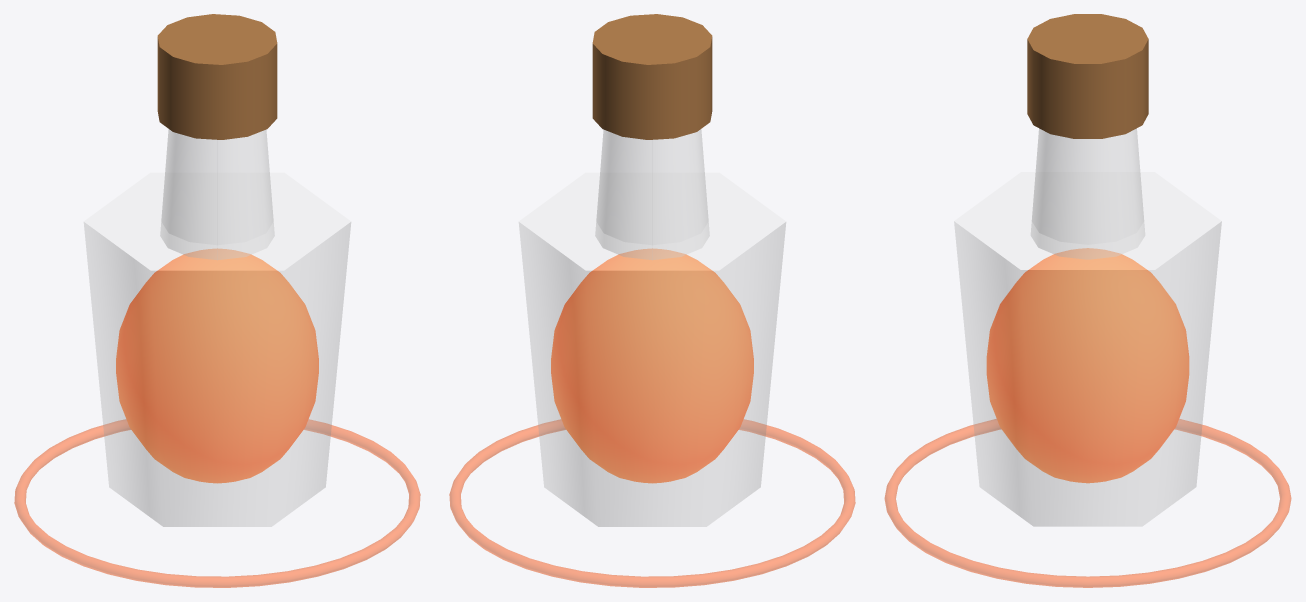
The model's file is health-potion.glb.
3 views of the same model, side by side, from view 1: azimuth 30°, elevation 25°; view 2: azimuth 150°, elevation 25°; view 3: azimuth 270°, elevation 25° (orthographic).
Visible parts, largest first — view 1: faceted_bottle, liquid, cork, neck, ground_halo; view 2: faceted_bottle, liquid, cork, neck, ground_halo; view 3: faceted_bottle, liquid, cork, neck, ground_halo.
Boxes of the visible parts, x1,y1,x2,y2 form: faceted_bottle: [84, 173, 350, 526]; liquid: [116, 248, 318, 483]; cork: [157, 14, 277, 139]; neck: [160, 129, 274, 259]; ground_halo: [14, 419, 420, 587]; faceted_bottle: [519, 173, 785, 526]; liquid: [551, 248, 753, 483]; cork: [592, 14, 712, 139]; neck: [595, 129, 709, 259]; ground_halo: [449, 419, 855, 587]; faceted_bottle: [954, 172, 1221, 526]; liquid: [986, 248, 1189, 483]; cork: [1027, 14, 1148, 138]; neck: [1031, 128, 1144, 259]; ground_halo: [884, 419, 1291, 587].
Bounding box in the file's own units: 0.9953 × 1.25 × 0.9953.
